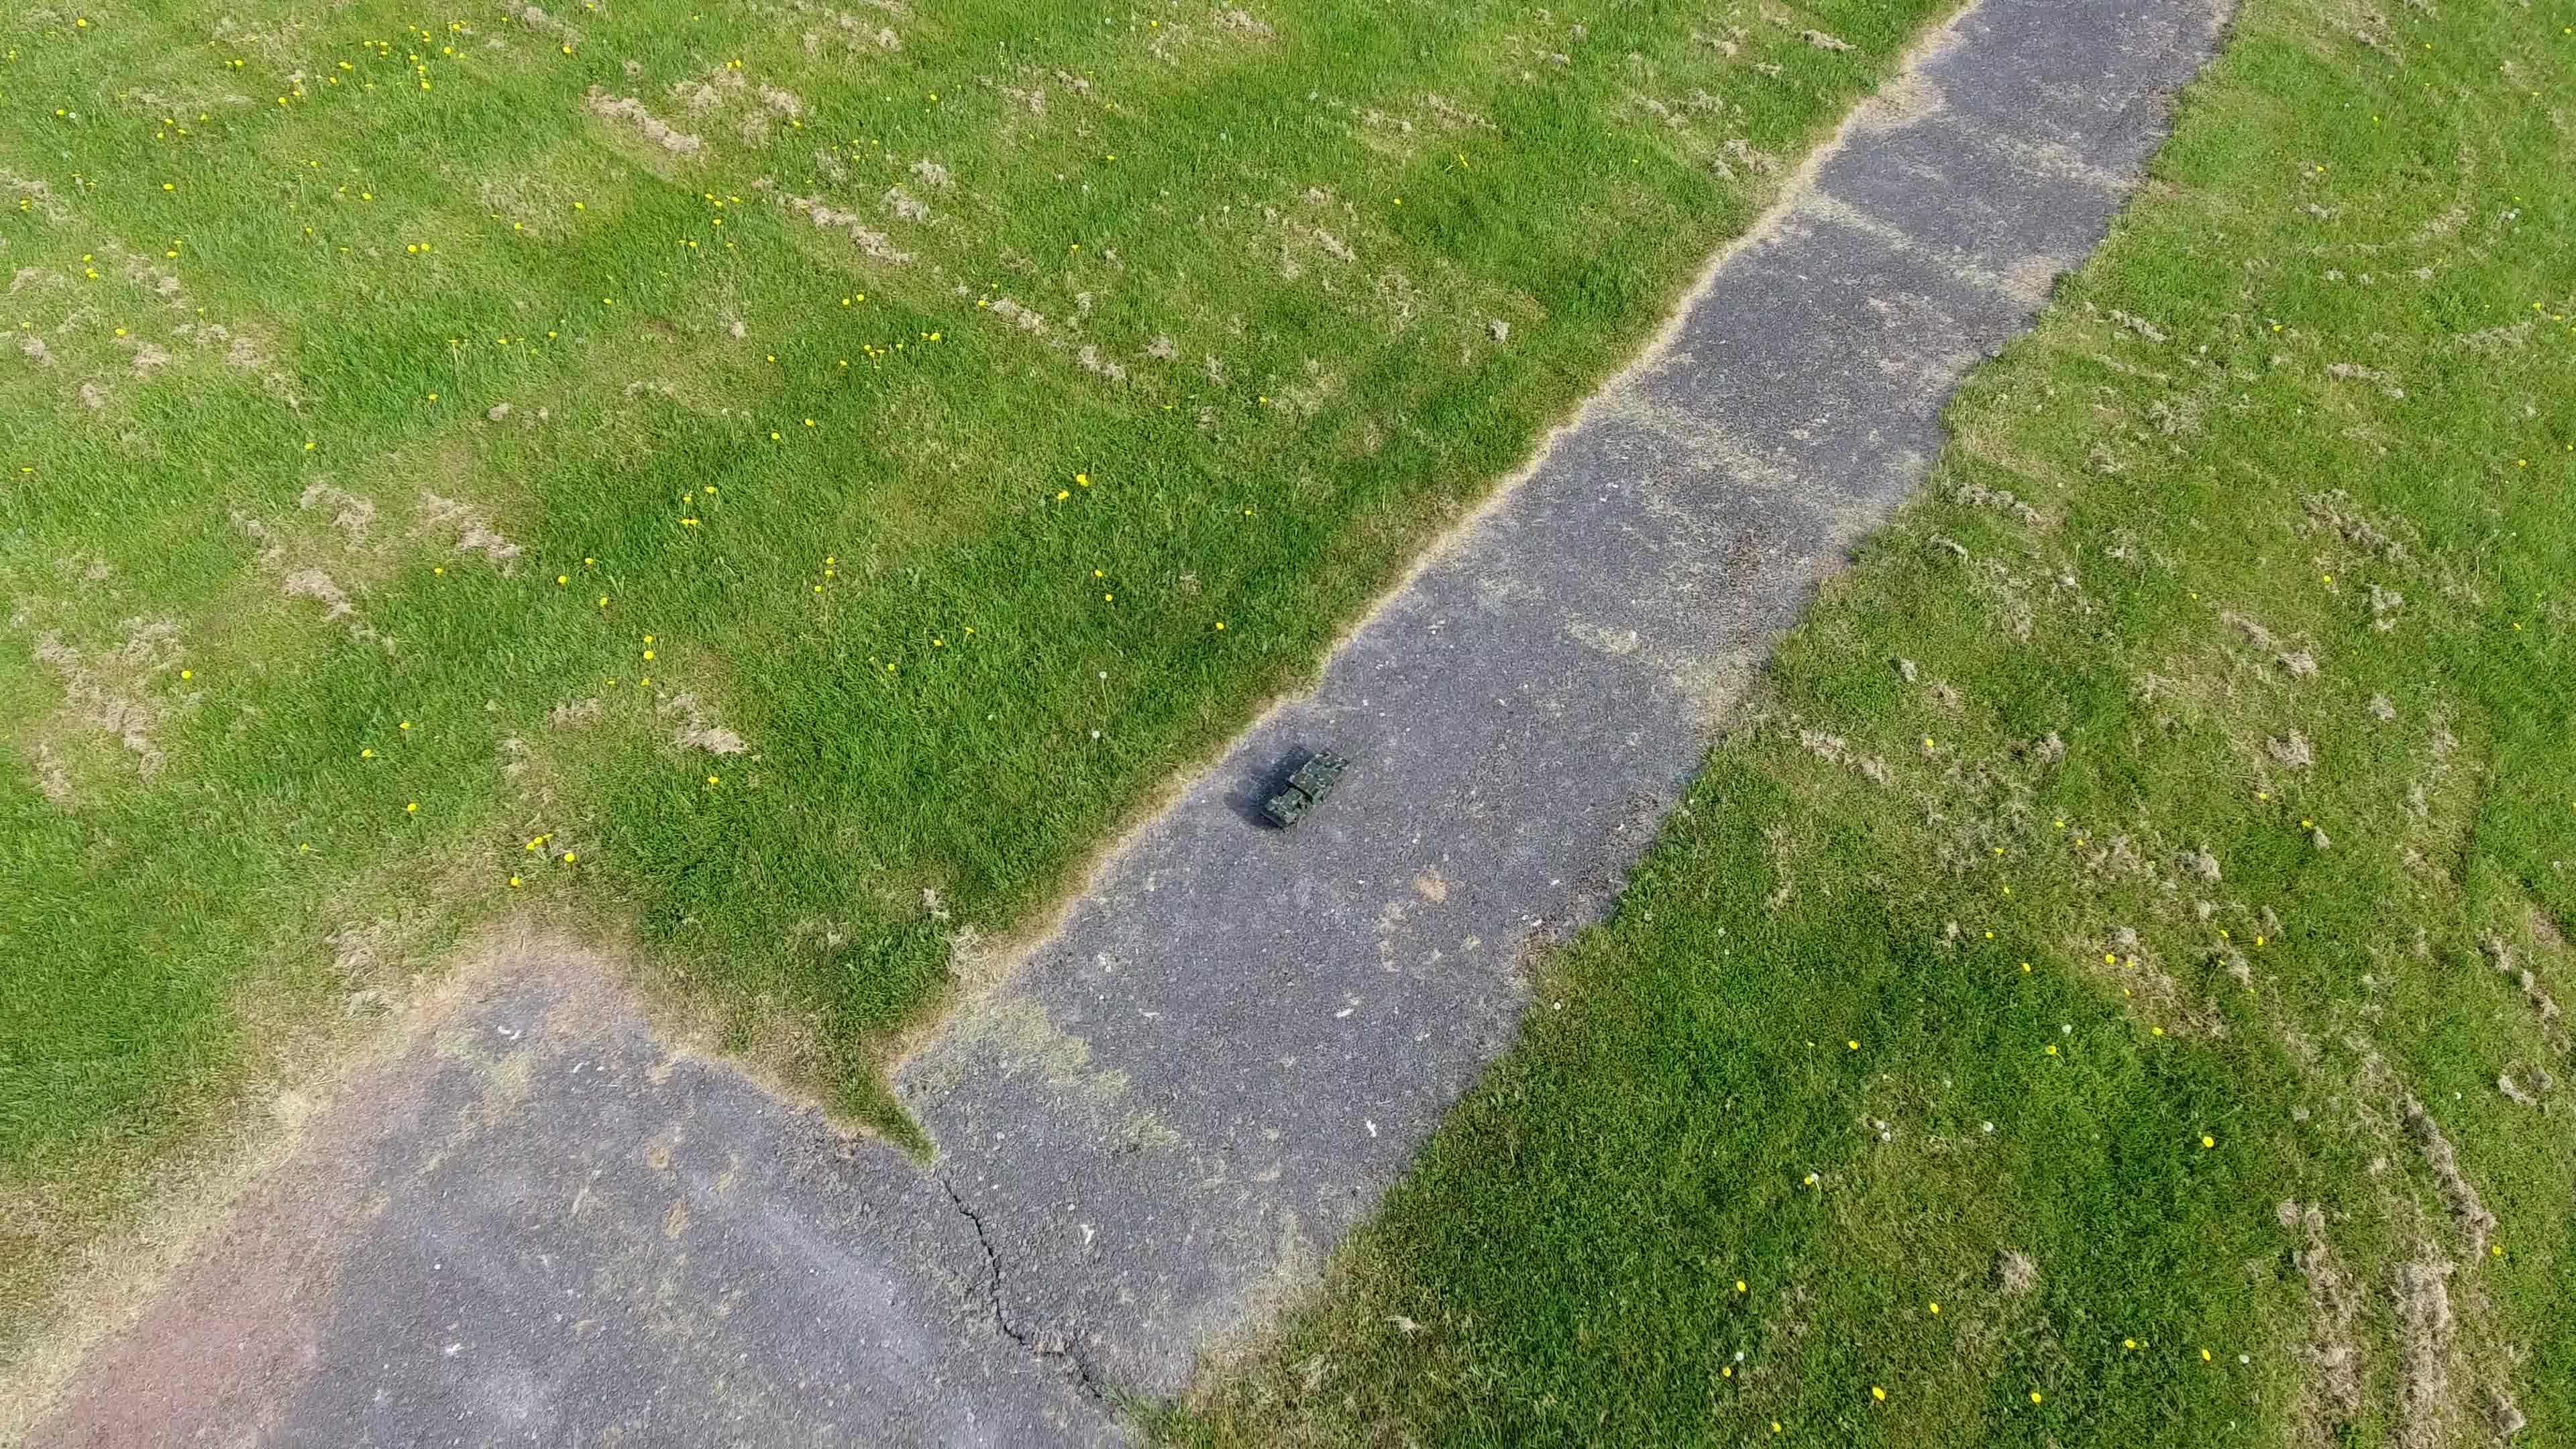transporter9: (1258, 745, 1352, 833)
